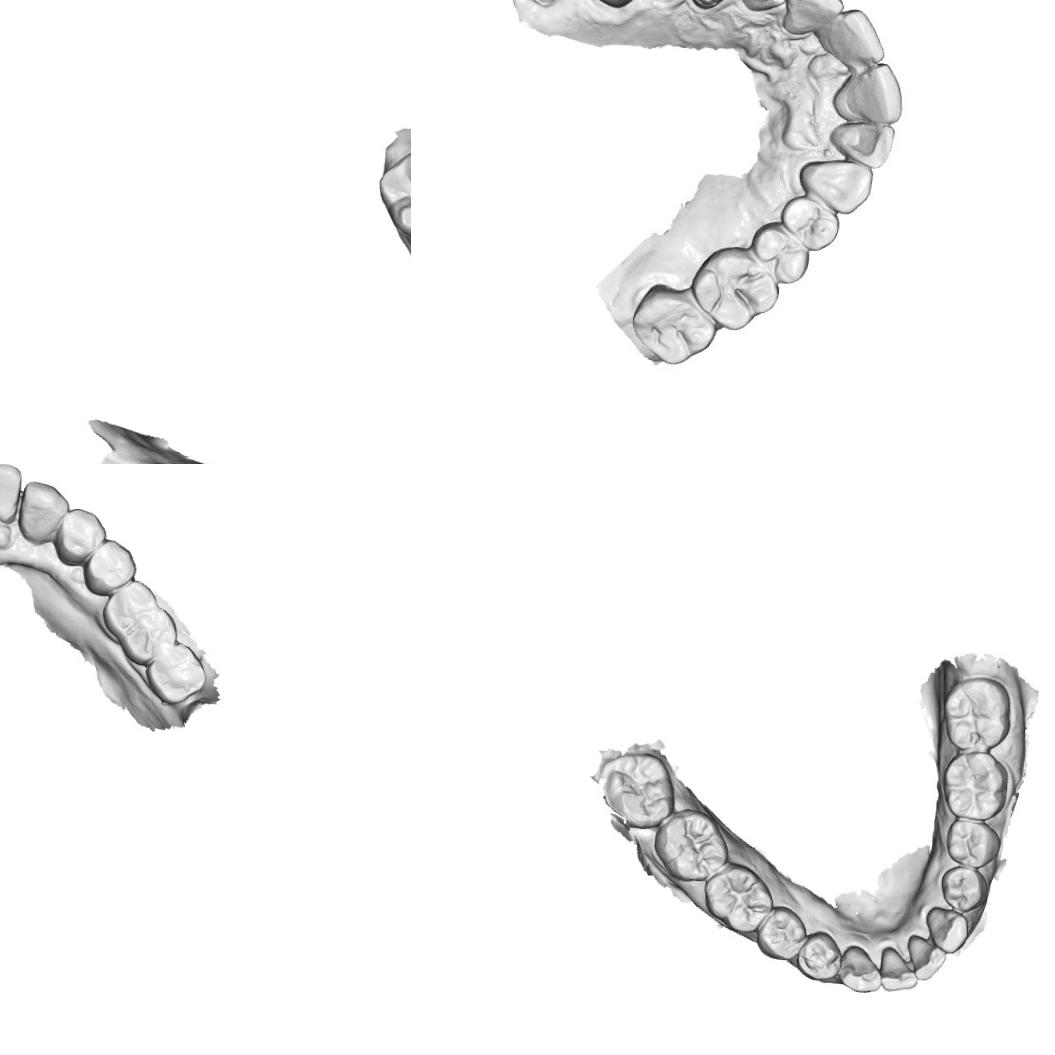canine: (794, 154, 875, 216), (16, 480, 71, 548), (732, 0, 792, 15)
incisor: (840, 64, 904, 126), (828, 11, 888, 70), (836, 119, 894, 166), (836, 944, 883, 994), (785, 0, 843, 39), (924, 906, 970, 954), (906, 934, 948, 982), (878, 946, 919, 994), (0, 464, 22, 525)
molar: (686, 242, 780, 333), (626, 282, 716, 366), (99, 578, 179, 668), (599, 751, 677, 830), (652, 807, 730, 884), (940, 674, 1013, 754), (702, 862, 775, 933), (940, 750, 1009, 822), (144, 640, 207, 706), (375, 146, 411, 243)
premolar: (751, 224, 810, 283), (82, 538, 138, 597), (53, 507, 108, 567), (778, 194, 838, 247), (755, 905, 807, 961), (944, 818, 1002, 868), (939, 864, 989, 912), (795, 930, 843, 980)
